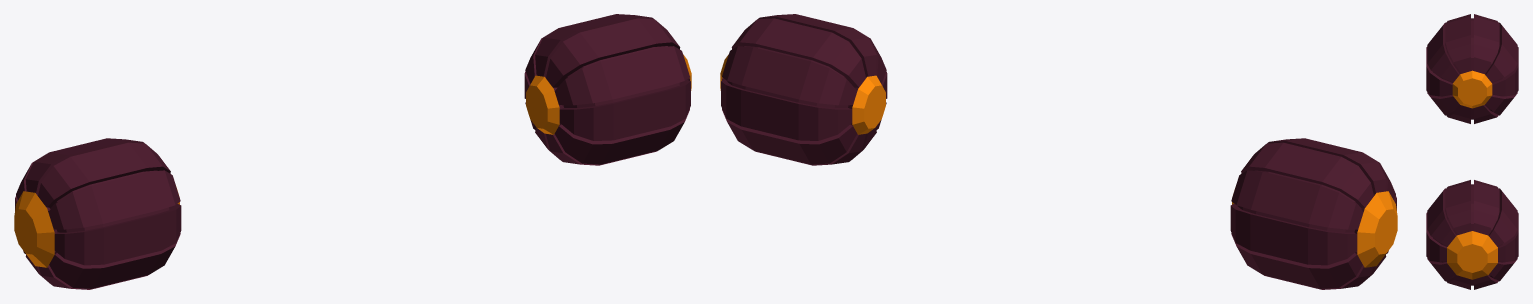
Rendered from 02_Rover_Rueda_02.fbx.
The picture shows the model from 3 angles, left to right: view 1: azimuth 30°, elevation 25°; view 2: azimuth 150°, elevation 25°; view 3: azimuth 270°, elevation 25°; orthographic projection. The views are drawn at different scales.
Visible parts, largest first — view 1: neumatico.001; view 2: neumatico.001; view 3: neumatico.001.
Boxes of the visible parts, box(x1,y1,x2,y2) form: neumatico.001: box(14, 14, 691, 289); neumatico.001: box(720, 14, 1397, 289); neumatico.001: box(1426, 14, 1518, 289).
Bounding box in the file's own units: 499 × 95.12 × 91.38.
